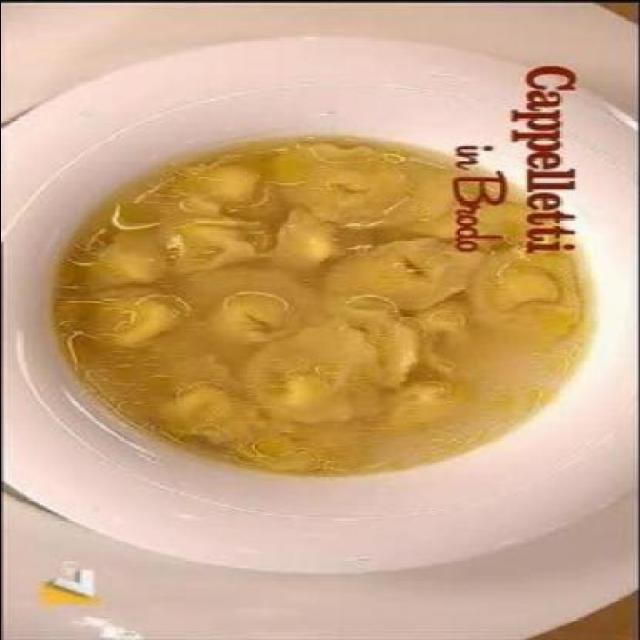Tortellini in broth: (87, 148, 430, 496)
